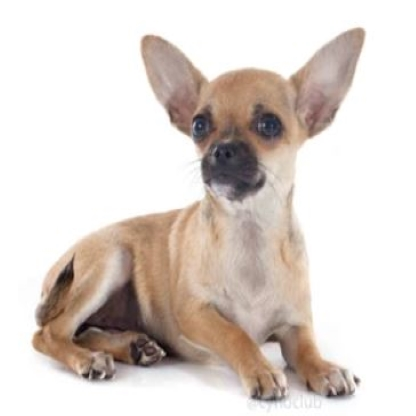chihuahua: (34, 25, 368, 403)
